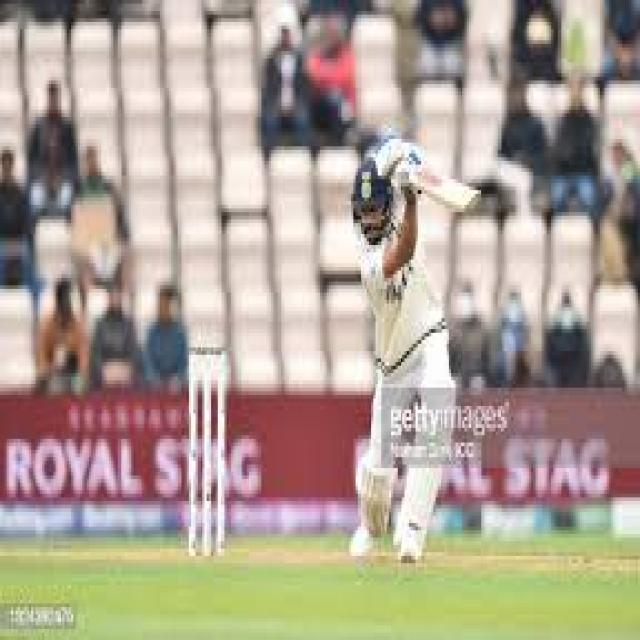toe: (446, 183, 490, 218)
